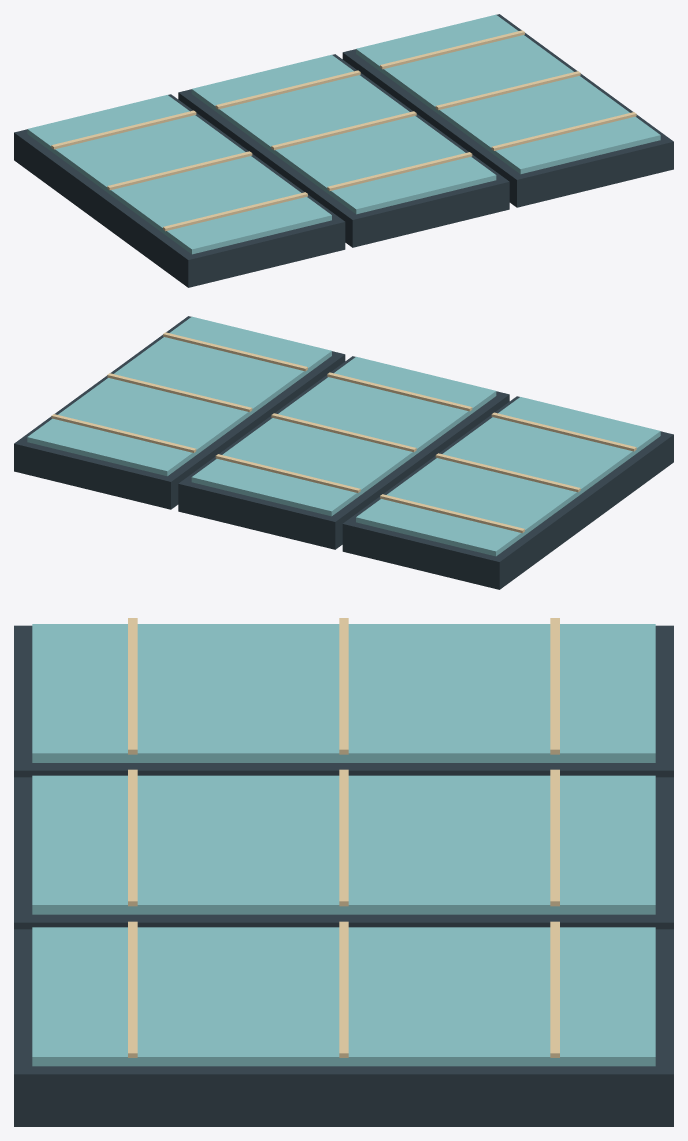
File: upgrade_solar_roof.glb
The picture shows the model from 3 angles, top to bottom: view 1: azimuth 30°, elevation 25°; view 2: azimuth 150°, elevation 25°; view 3: azimuth 270°, elevation 25°; orthographic projection. The views are drawn at different scales.
Visible parts, largest first — view 1: panel.001, panel, panel.002, frame, frame.002, frame.001, cell.005, cell.007, cell.001, cell.002, cell.004, cell.003 (+3 smaller); view 2: panel.001, panel, panel.002, frame, frame.002, frame.001, cell.003, cell.007, cell, cell.001, cell.004, cell.005 (+3 smaller); view 3: panel.002, panel.001, panel, frame.002, frame.001, frame, cell.003, cell.004, cell.005, cell, cell.001, cell.002 (+3 smaller).
Boxes of the visible parts, x1,y1,x2,y2 form: panel.001: [191, 54, 496, 214]; panel: [27, 95, 331, 254]; panel.002: [356, 14, 660, 174]; frame: [14, 94, 345, 287]; frame.002: [342, 14, 673, 207]; frame.001: [178, 54, 509, 247]; cell.005: [215, 70, 360, 109]; cell.007: [435, 71, 580, 110]; cell.001: [107, 151, 252, 190]; cell.002: [51, 110, 196, 149]; cell.004: [271, 111, 416, 150]; cell.003: [327, 152, 472, 190]; panel.001: [191, 356, 496, 516]; panel: [356, 397, 660, 556]; panel.002: [27, 316, 331, 476]; frame: [342, 396, 673, 589]; frame.002: [14, 316, 345, 509]; frame.001: [178, 356, 509, 549]; cell.003: [327, 372, 472, 411]; cell.007: [107, 373, 252, 412]; cell: [491, 412, 636, 451]; cell.001: [435, 453, 580, 492]; cell.004: [271, 413, 416, 452]; cell.005: [215, 454, 360, 492]; panel.002: [32, 927, 655, 1066]; panel.001: [32, 775, 655, 914]; panel: [32, 624, 655, 762]; frame.002: [14, 929, 673, 1126]; frame.001: [14, 777, 673, 929]; frame: [14, 625, 673, 777]; cell.003: [128, 769, 137, 906]; cell.004: [339, 769, 348, 906]; cell.005: [550, 769, 559, 906]; cell: [128, 618, 137, 754]; cell.001: [339, 618, 348, 754]; cell.002: [550, 618, 559, 754].
Size of the model in its own units: 2.01 by 0.14 by 1.25.
